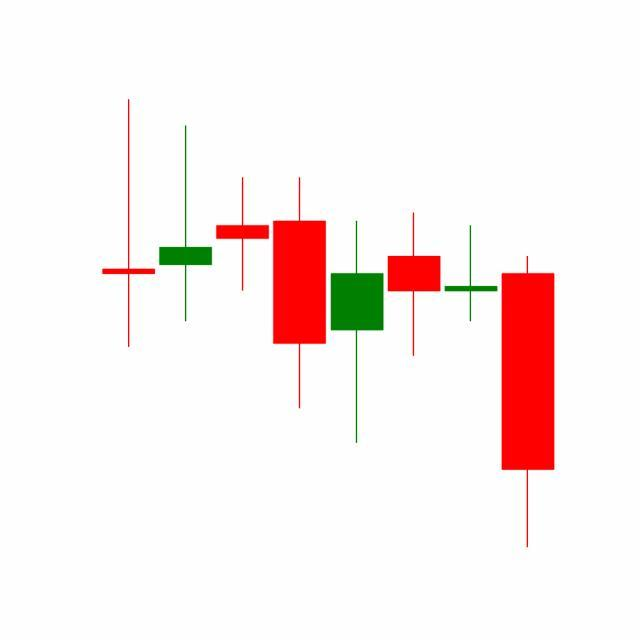Hikkake Pattern: (270, 174, 555, 549)
